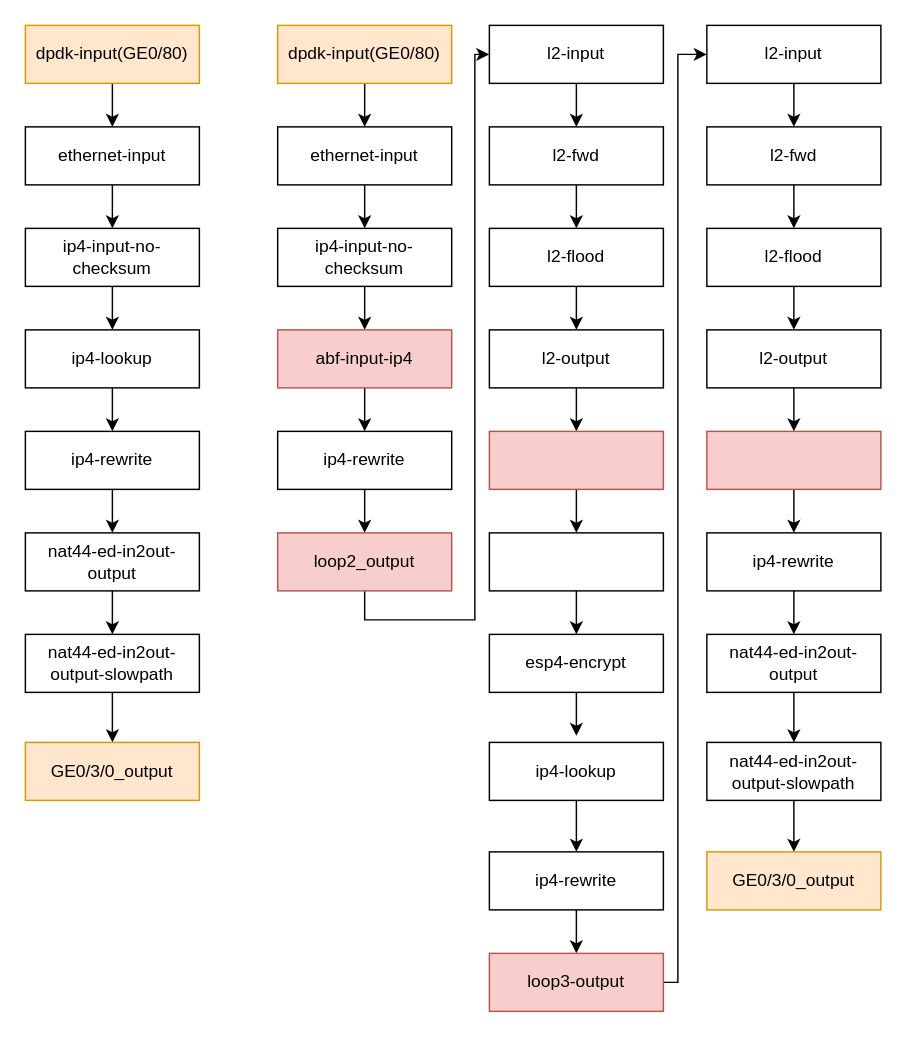
This 906x1037 diagram has some shape labels left out. The centre of each missing label's shape, as x and y in pixels:
"ipsec-gre0-output" belongs at point (575, 459).
"ipsec-gre0-tx" belongs at point (575, 561).
"vxlan4-encap" belongs at point (793, 459).
